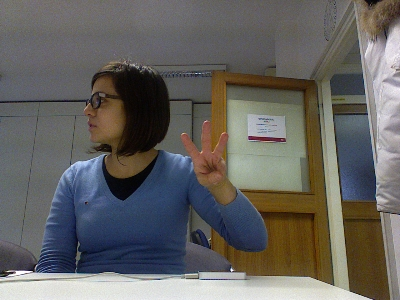三分: (180, 119, 230, 188)
